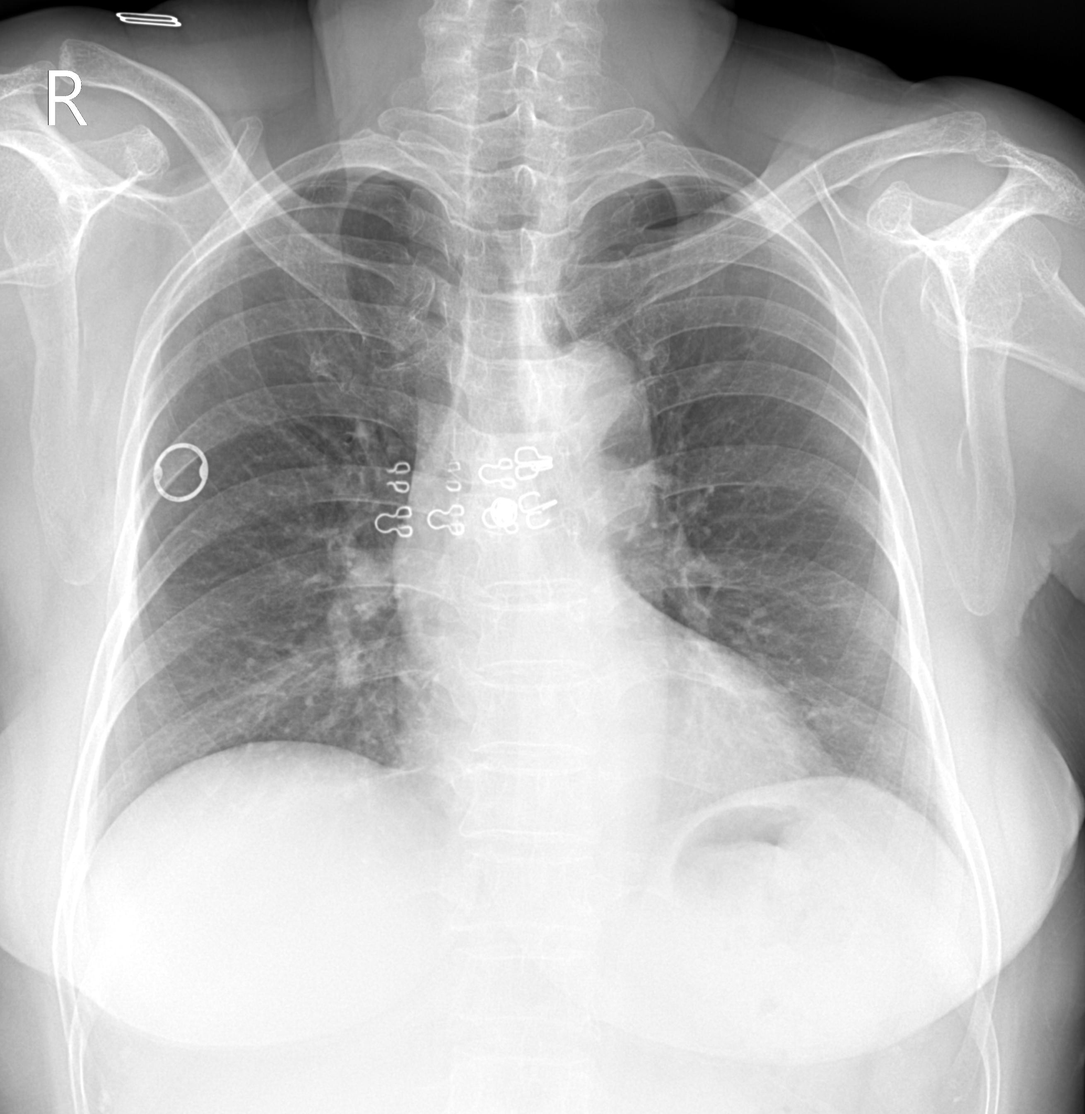Aortic enlargement: (489, 345, 655, 484)
